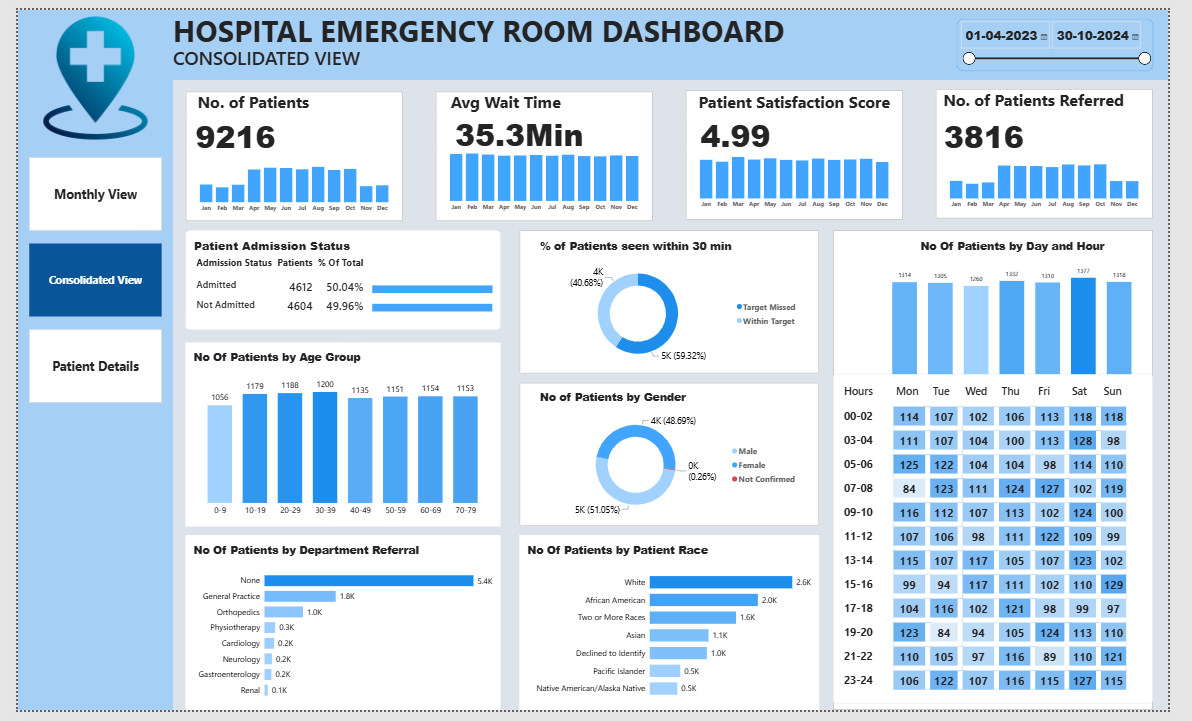

The dashboard page shown, as its layout file describes it:
{"tool":"powerbi","page":{"name":"Consolidated View ","canvas":[2300,1400],"ordinal":1},"visuals":[{"type":"shape","box":[0,0,310,1400.5],"z":0},{"type":"shape","box":[335,162.5,435,260],"z":1000},{"type":"shape","box":[309.1,0,1990.2,140],"z":2000},{"type":"textbox","box":[310,0,1245,80],"z":3000},{"type":"textbox","box":[310,70,485,70],"z":4000},{"type":"columnChart","fields":{"Category":["Date Table.Month Name"],"Y":["Hospital ER_Data.No Of Patients"]},"box":[335,257.5,435,167.5],"z":5000},{"type":"card","fields":{"Values":["Hospital ER_Data.No Of Patients"]},"box":[335,207.5,200,85],"z":6000},{"type":"slicer","fields":{"Values":["Date Table.Date"]},"box":[1877.5,17.5,392.5,105],"z":7000},{"type":"shape","box":[835,162.5,435,260],"z":8000},{"type":"textbox","box":[335,162.5,280,60],"z":10000},{"type":"shape","box":[1335,160.5,435,260],"z":12000},{"type":"card","fields":{"Values":["Hospital ER_Data.Avg Wait Time"]},"box":[855,200,295,92.5],"z":13000},{"type":"textbox","box":[835,162.5,290,67.5],"z":14000},{"type":"columnChart","fields":{"Category":["Date Table.Month Name"],"Y":["Avg(Hospital ER_Data.Patient Waittime)"]},"box":[835,255,435,167.5],"z":15000},{"type":"columnChart","fields":{"Category":["Date Table.Month Name"],"Y":["Hospital ER_Data.Satisfaction Score"]},"box":[1335,260,435,157.5],"z":16000},{"type":"card","fields":{"Values":["Hospital ER_Data.Satisfaction Score"]},"box":[1335,207.5,200,82.5],"z":17000},{"type":"textbox","box":[1335,162.5,435,45],"z":18000},{"type":"shape","box":[335,440,630,177],"z":19000},{"type":"pivotTable","title":"Patient Admission Status ","fields":{"Rows":["Hospital ER_Data.Admission Status"],"Values":["Hospital ER_Data.No Of Patients1","Hospital ER_Data.No Of Patients"]},"box":[335,440,630,200],"z":20000},{"type":"shape","box":[1835,156.5,435,260],"z":21000},{"type":"shape","box":[1002.5,1050,600,350],"z":22000},{"type":"columnChart","fields":{"Category":["Date Table.Month Name"],"Y":["Hospital ER_Data.No of Patient Referred"]},"box":[1835,255,435,162.5],"z":23000},{"type":"card","fields":{"Values":["Hospital ER_Data.No of Patient Referred"]},"box":[1834.1,207.3,192.7,85.4],"z":24000},{"type":"textbox","box":[1835,157.5,410,50],"z":25000},{"type":"barChart","fields":{"Category":["Hospital ER_Data.Admission Status"],"Y":["Hospital ER_Data.No Of Patients"]},"box":[692.5,510,272.5,130],"z":26000},{"type":"shape","box":[335,665,630,368],"z":27000},{"type":"clusteredColumnChart","fields":{"Category":["Hospital ER_Data.Age Group"],"Y":["Hospital ER_Data.No Of Patients"]},"box":[335,665,630,367.5],"z":28000},{"type":"shape","box":[1002.5,745,600,287.5],"z":29000},{"type":"shape","box":[1630,440,640,960],"z":29500},{"type":"shape","box":[1002.5,440,600,287.5],"z":30000},{"type":"shape","box":[335,1050,630,350],"z":31000},{"type":"clusteredBarChart","fields":{"Category":["Hospital ER_Data.Department Referral"],"Y":["Hospital ER_Data.No Of Patients"]},"box":[335,1050,630,350],"z":32000},{"type":"donutChart","title":"% of Patients seen within  30 min","fields":{"Category":["Hospital ER_Data.Wait time Status"],"Y":["Hospital ER_Data.No Of Patients"]},"box":[1027.5,442.5,552.5,285],"z":33000},{"type":"donutChart","title":"No of Patients by Gender ","fields":{"Category":["Hospital ER_Data.Patient Gender"],"Y":["Hospital ER_Data.No Of Patients"]},"box":[1027.5,745,552.5,285],"z":34000},{"type":"clusteredBarChart","fields":{"Category":["Hospital ER_Data.Patient Race"],"Y":["Hospital ER_Data.No Of Patients"]},"box":[1002.5,1050,600,350],"z":35000},{"type":"pivotTable","fields":{"Columns":["Date Table.Day Name"],"Rows":["Hospital ER_Data.Waittime Interval"],"Values":["Hospital ER_Data.No Of Patients"]},"box":[1630,727.5,640,660],"z":37000},{"type":"columnChart","title":"No Of Patients by Day and Hour ","fields":{"Category":["Date Table.Day Name"],"Y":["Hospital ER_Data.No Of Patients"]},"box":[1732.5,442.5,512.5,302.5],"z":38000},{"type":"image","box":[22.5,12.5,265,247.5],"z":39000},{"type":"pageNavigator","box":[22.5,295,265,490],"z":39001}]}

Visuals, with their boxes in screenshot pixels (x1, y1, x2, y2), scaled from the page's 2300x1400 canvas onto the 1192x721 screenshot:
shape: 0/0/161/720
shape: 174/84/399/218
shape: 160/0/1191/72
textbox: 161/0/806/41
textbox: 161/36/412/72
columnChart - Date Table.Month Name x Hospital ER_Data.No Of Patients: 174/133/399/219
card - Hospital ER_Data.No Of Patients: 174/107/277/151
slicer - Date Table.Date: 973/9/1176/63
shape: 433/84/658/218
textbox: 174/84/319/115
shape: 692/83/917/217
card - Hospital ER_Data.Avg Wait Time: 443/103/596/151
textbox: 433/84/583/118
columnChart - Date Table.Month Name x Avg(Hospital ER_Data.Patient Waittime): 433/131/658/218
columnChart - Date Table.Month Name x Hospital ER_Data.Satisfaction Score: 692/134/917/215
card - Hospital ER_Data.Satisfaction Score: 692/107/796/149
textbox: 692/84/917/107
shape: 174/227/500/318
"Patient Admission Status " pivotTable: 174/227/500/330
shape: 951/81/1176/214
shape: 520/541/831/720
columnChart - Date Table.Month Name x Hospital ER_Data.No of Patient Referred: 951/131/1176/215
card - Hospital ER_Data.No of Patient Referred: 951/107/1050/151
textbox: 951/81/1163/107
barChart - Hospital ER_Data.Admission Status x Hospital ER_Data.No Of Patients: 359/263/500/330
shape: 174/342/500/532
clusteredColumnChart - Hospital ER_Data.Age Group x Hospital ER_Data.No Of Patients: 174/342/500/532
shape: 520/384/831/532
shape: 845/227/1176/720
shape: 520/227/831/375
shape: 174/541/500/720
clusteredBarChart - Hospital ER_Data.Department Referral x Hospital ER_Data.No Of Patients: 174/541/500/720
"% of Patients seen within  30 min" donutChart: 533/228/819/375
"No of Patients by Gender " donutChart: 533/384/819/530
clusteredBarChart - Hospital ER_Data.Patient Race x Hospital ER_Data.No Of Patients: 520/541/831/720
pivotTable - Date Table.Day Name x Hospital ER_Data.Waittime Interval: 845/375/1176/715
"No Of Patients by Day and Hour " columnChart: 898/228/1163/384
image: 12/6/149/134
pageNavigator: 12/152/149/404
